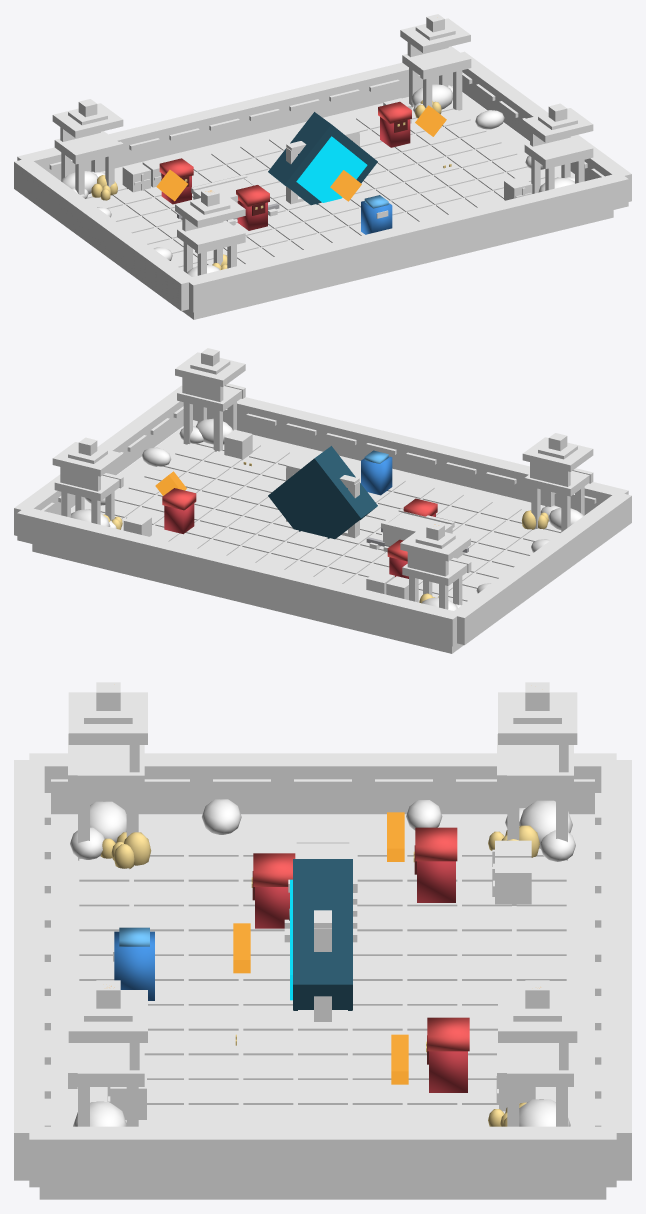
Rendered from Level1.glb.
3 views of the same model, one above another, from view 1: azimuth 30°, elevation 25°; view 2: azimuth 150°, elevation 25°; view 3: azimuth 270°, elevation 25° (orthographic). The views are drawn at different scales.
Parts seen in each view (by area): view 1: Arena_Wall_South, Arena_Wall_North, Arena_Floor_Base, Arena_Wall_West, Arena_Wall_East, Portal_Outer_Frame, Portal, Tower_NW_Roof, Tower_SE_Roof, Tower_SW_Roof, Tower_NE_Roof, Tower_NW_Platform (+45 smaller); view 2: Arena_Wall_North, Arena_Wall_South, Arena_Floor_Base, Arena_Wall_West, Portal_Outer_Frame, Arena_Wall_East, Tower_SW_Roof, Tower_NE_Roof, Tower_NW_Roof, Tower_SE_Roof, Player, Tower_SW_Platform (+45 smaller); view 3: Arena_Wall_East, Arena_Floor_Base, Arena_Wall_West, Arena_Wall_North, Arena_Wall_South, Portal_Outer_Frame, Tower_NE_Roof, Tower_SE_Roof, Tower_NW_Roof, Tower_SW_Roof, Tower_SE_Platform, Tower_SW_Platform (+110 smaller).
Part boxes in pixels (box(x1,y1,x2,y2)): Arena_Wall_South: box(189, 173, 628, 312); Arena_Wall_North: box(17, 62, 452, 180); Arena_Floor_Base: box(87, 86, 613, 319); Arena_Wall_West: box(14, 160, 195, 311); Arena_Wall_East: box(460, 51, 631, 201); Portal_Outer_Frame: box(268, 112, 377, 205); Portal: box(296, 136, 367, 202); Tower_NW_Roof: box(52, 103, 123, 137); Tower_SE_Roof: box(522, 108, 593, 142); Tower_SW_Roof: box(175, 192, 245, 227); Tower_NE_Roof: box(400, 18, 470, 52); Tower_NW_Platform: box(54, 131, 118, 160); Arena_Wall_North: box(17, 507, 456, 646); Arena_Wall_South: box(193, 397, 628, 514); Arena_Floor_Base: box(32, 420, 558, 653); Arena_Wall_West: box(450, 494, 631, 645); Portal_Outer_Frame: box(268, 446, 377, 539); Arena_Wall_East: box(14, 385, 183, 535); Tower_SW_Roof: box(522, 437, 593, 471); Tower_NE_Roof: box(52, 442, 123, 476); Tower_NW_Roof: box(400, 526, 470, 561); Tower_SE_Roof: box(175, 352, 245, 386); Player: box(361, 456, 392, 495); Tower_SW_Platform: box(524, 471, 589, 496); Arena_Wall_East: box(29, 1126, 616, 1187); Arena_Floor_Base: box(39, 814, 606, 1199); Arena_Wall_West: box(29, 753, 616, 814); Arena_Wall_North: box(601, 760, 631, 1180); Arena_Wall_South: box(14, 760, 44, 1180); Portal_Outer_Frame: box(293, 859, 352, 1010); Tower_NE_Roof: box(498, 990, 577, 1042); Tower_SE_Roof: box(68, 990, 147, 1042); Tower_NW_Roof: box(498, 692, 577, 744); Tower_SW_Roof: box(68, 692, 147, 744); Tower_SE_Platform: box(77, 1043, 144, 1086); Tower_SW_Platform: box(77, 745, 144, 788).
Size of the model in its own units: 22.56 by 5.28 by 15.26.
